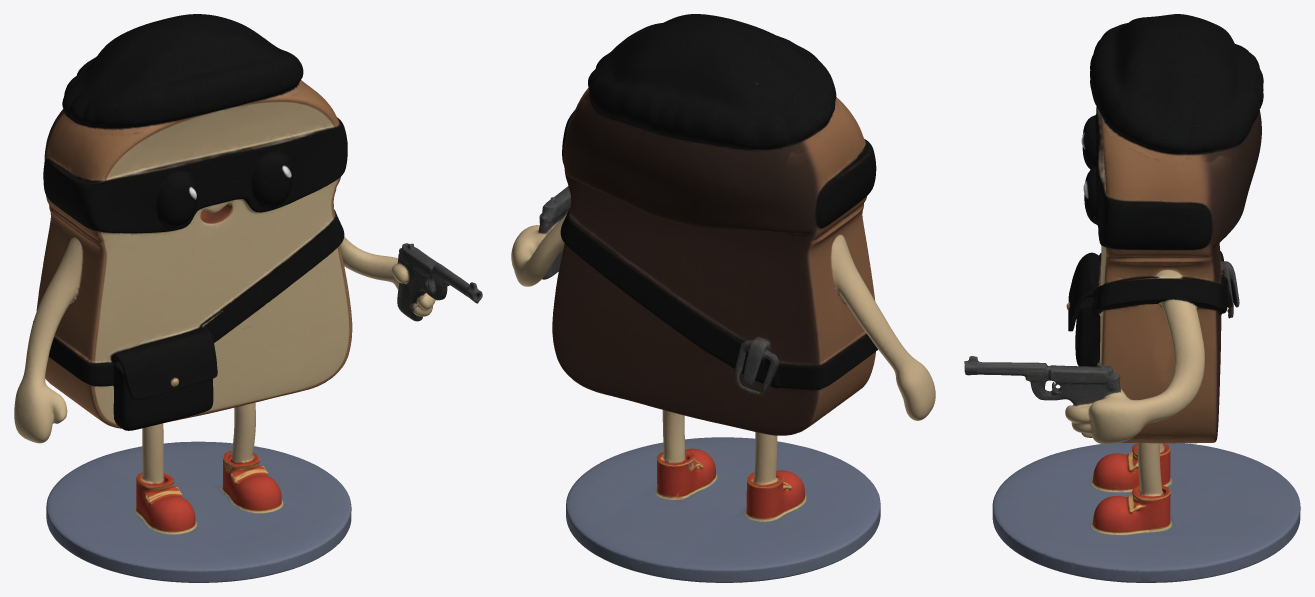
The model's file is toast-bandit.glb.
3 views of the same model, side by side, from view 1: azimuth 30°, elevation 25°; view 2: azimuth 150°, elevation 25°; view 3: azimuth 270°, elevation 25° (orthographic). The views are drawn at different scales.
Bounding box in the file's own units: 1.65 × 1.9 × 1.17.
1 material, 1 textured.
